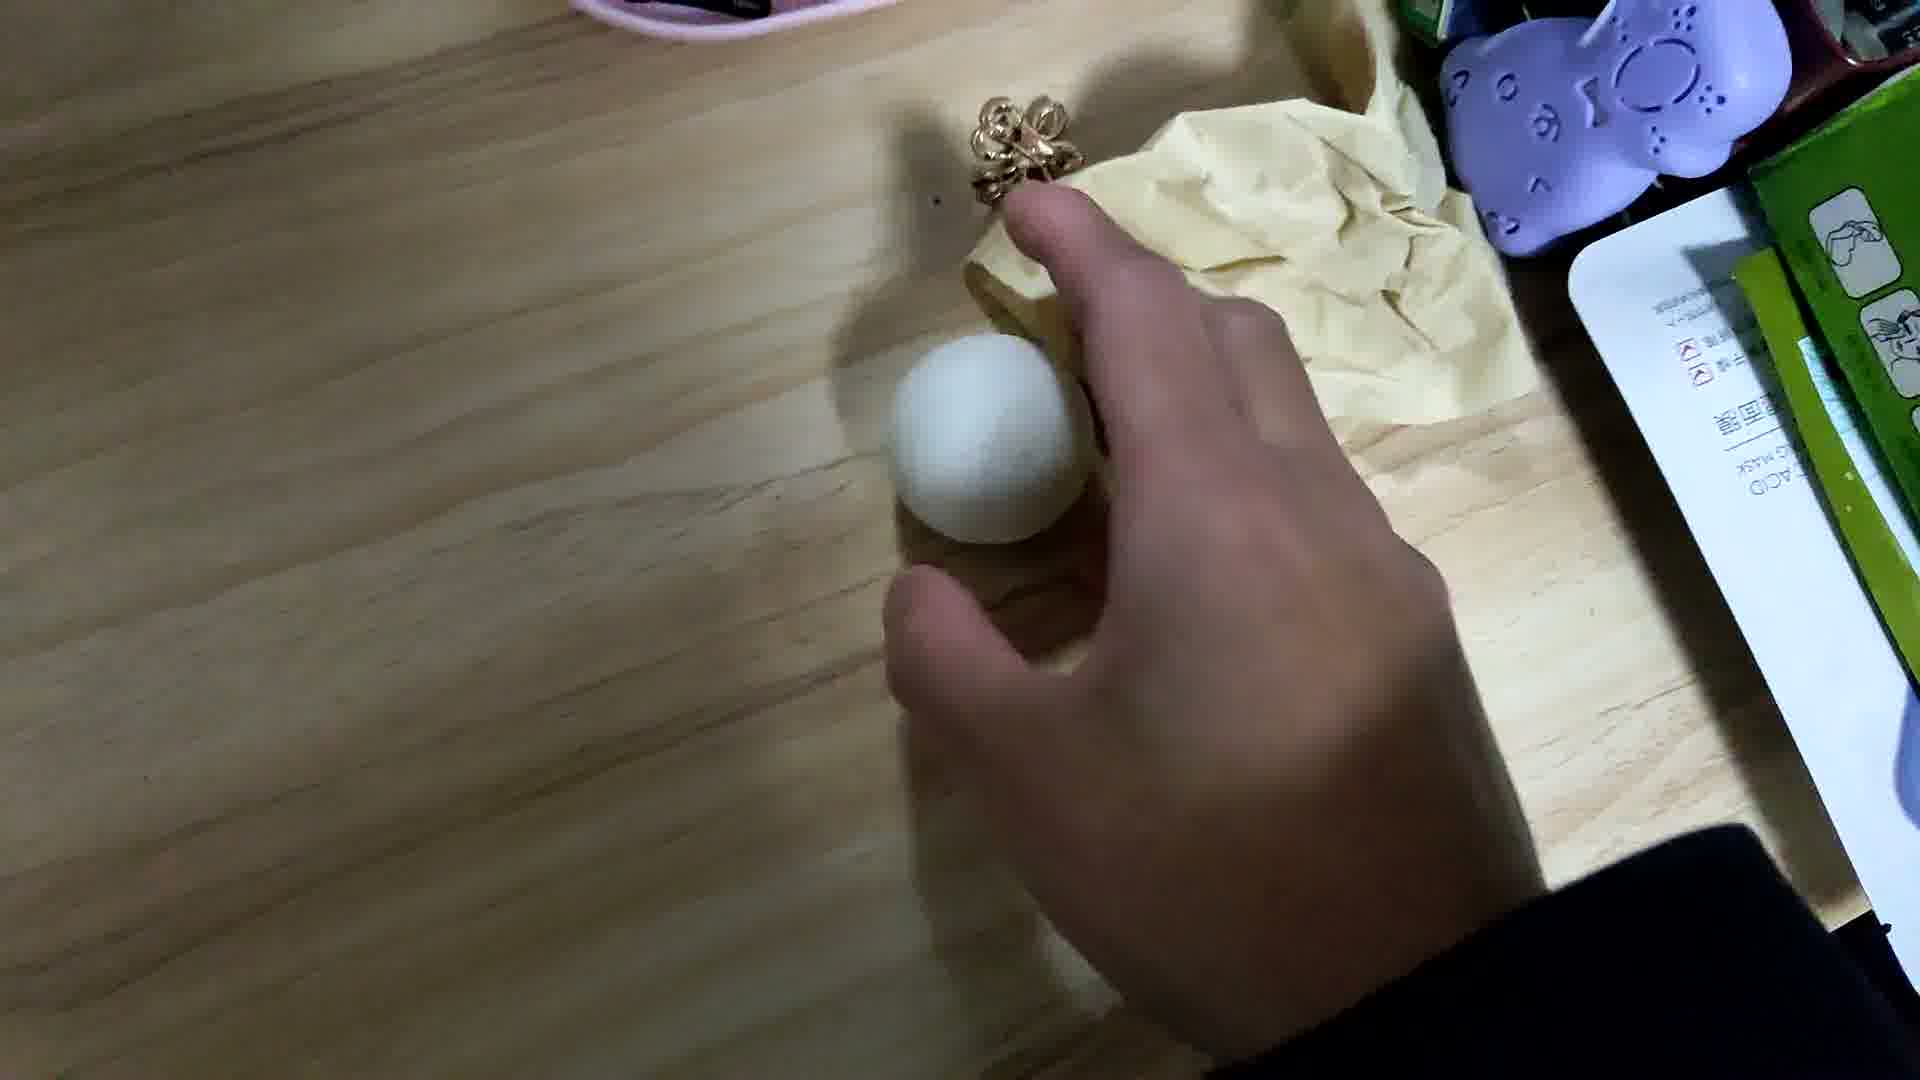Ball: (893, 335, 1091, 542)
